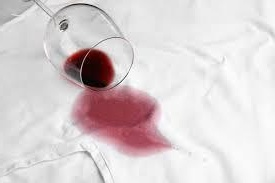wine: (73, 89, 169, 150)
